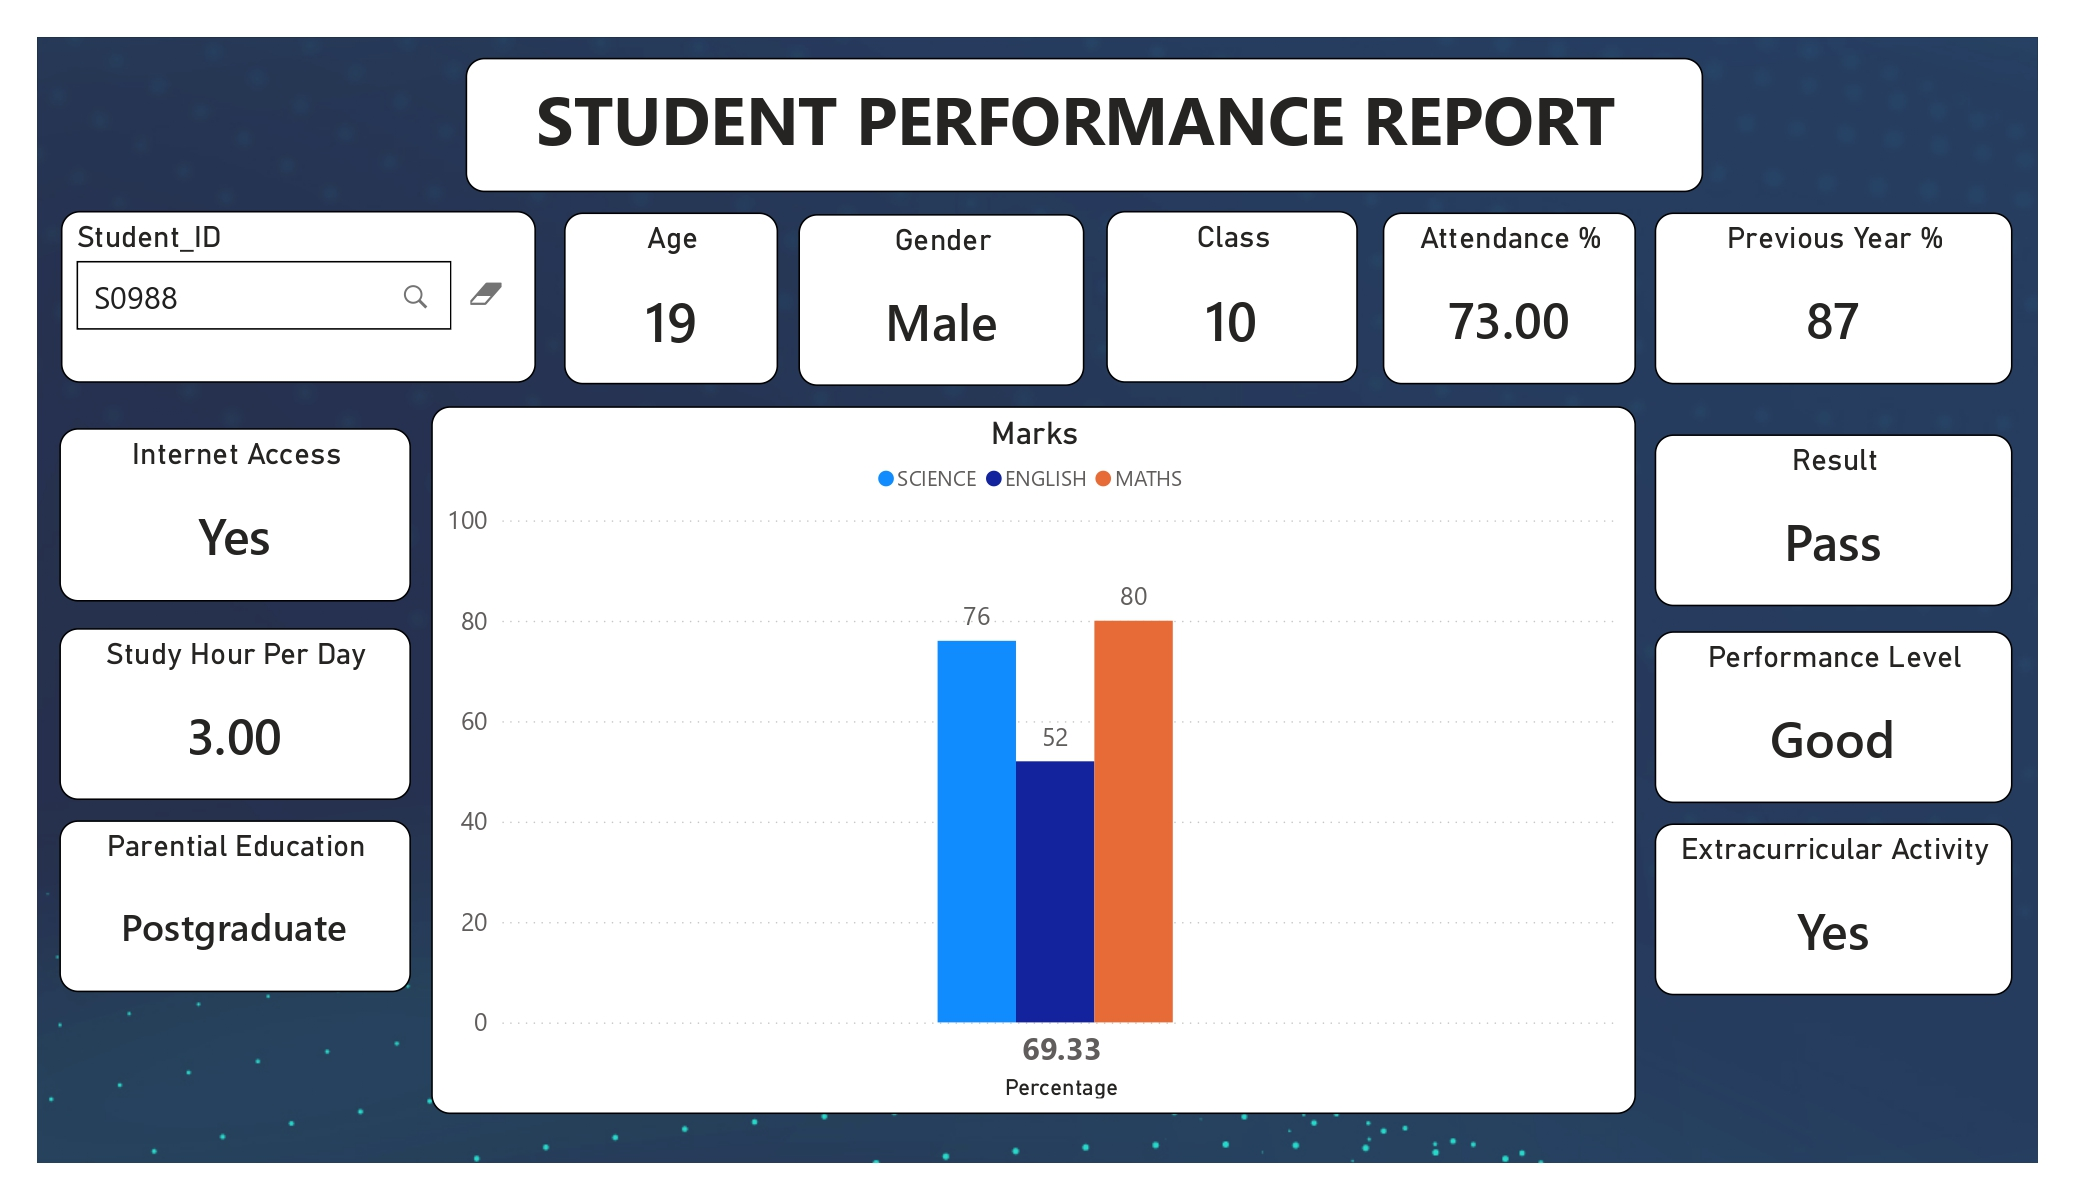

The page's visual inventory and layout, read from the dashboard file:
{"tool":"powerbi","page":{"name":"Page 1","canvas":[1280,720],"ordinal":0},"visuals":[{"type":"textbox","box":[274.4,12.8,791.3,86.1],"z":0},{"type":"textFilter25A4896A83E0487089E2B90C9AE57C8A","fields":{"field":["Student_Performance_Dataset.Student_ID"]},"box":[15.1,111.5,304.3,109.6],"z":1000},{"type":"cardVisual","title":"Age","fields":{"Data":["Student_Performance_Dataset.Measure"]},"box":[336.6,111.7,137.2,110.1],"z":2000},{"type":"cardVisual","title":"Class","fields":{"Data":["Student_Performance_Dataset.Selected CLASS"]},"box":[684.1,111.5,160.6,109.6],"z":3000},{"type":"cardVisual","title":"Internet Access","fields":{"Data":["Student_Performance_Dataset.Selected INTERNET ACC"]},"box":[14.4,250.5,224.9,110.1],"z":4000},{"type":"clusteredColumnChart","title":"Marks","fields":{"Y":["Student_Performance_Dataset.Selected SCIENCE","Student_Performance_Dataset.Selected ENGLISH","Student_Performance_Dataset.Selected MATHS"],"Category":["Student_Performance_Dataset.Final_Percentage"]},"box":[252.1,236.1,770.6,453.1],"z":5000},{"type":"cardVisual","title":"Attendance %","fields":{"Data":["Student_Performance_Dataset.Selected ATTENDANCE"]},"box":[861.5,111.7,161.1,110.1],"z":5001},{"type":"cardVisual","title":"Gender","fields":{"Data":["Student_Performance_Dataset.Selected GENDER"]},"box":[486.6,113.3,183.5,110.1],"z":5002},{"type":"cardVisual","title":"Study Hour Per Day","fields":{"Data":["Student_Performance_Dataset.Selected STUDY/HR"]},"box":[14.4,378.1,224.9,110.1],"z":5003},{"type":"cardVisual","title":"Performance Level","fields":{"Data":["Student_Performance_Dataset.Selected PLEVEL"]},"box":[1035.4,379.7,228.1,110.1],"z":5004},{"type":"cardVisual","title":"Result","fields":{"Data":["Student_Performance_Dataset.Selected PASS/FAIL"]},"box":[1035.4,253.7,228.1,110.1],"z":5005},{"type":"cardVisual","title":"Parential Education","fields":{"Data":["Student_Performance_Dataset.Selected PEDU"]},"box":[14.4,500.9,224.9,110.1],"z":5006},{"type":"cardVisual","title":"Extracurricular Activity","fields":{"Data":["Student_Performance_Dataset.Selected EA"]},"box":[1035.4,502.5,228.1,110.1],"z":5007},{"type":"cardVisual","title":"Previous Year %","fields":{"Data":["Student_Performance_Dataset.Selected PREVIOUS S"]},"box":[1035.4,111.7,228.1,110.1],"z":5008}]}

Visuals, with their boxes in screenshot pixels (x1, y1, x2, y2):
textbox: [472, 58, 1692, 190]
textFilter25A4896A83E0487089E2B90C9AE57C8A - Student_Performance_Dataset.Student_ID: [72, 210, 541, 379]
"Age" cardVisual: [568, 210, 779, 380]
"Class" cardVisual: [1104, 210, 1351, 379]
"Internet Access" cardVisual: [71, 424, 418, 594]
"Marks" clusteredColumnChart: [437, 402, 1626, 1101]
"Attendance %" cardVisual: [1377, 210, 1625, 380]
"Gender" cardVisual: [799, 213, 1082, 382]
"Study Hour Per Day" cardVisual: [71, 621, 418, 791]
"Performance Level" cardVisual: [1645, 623, 1997, 793]
"Result" cardVisual: [1645, 429, 1997, 599]
"Parential Education" cardVisual: [71, 810, 418, 980]
"Extracurricular Activity" cardVisual: [1645, 813, 1997, 982]
"Previous Year %" cardVisual: [1645, 210, 1997, 380]
